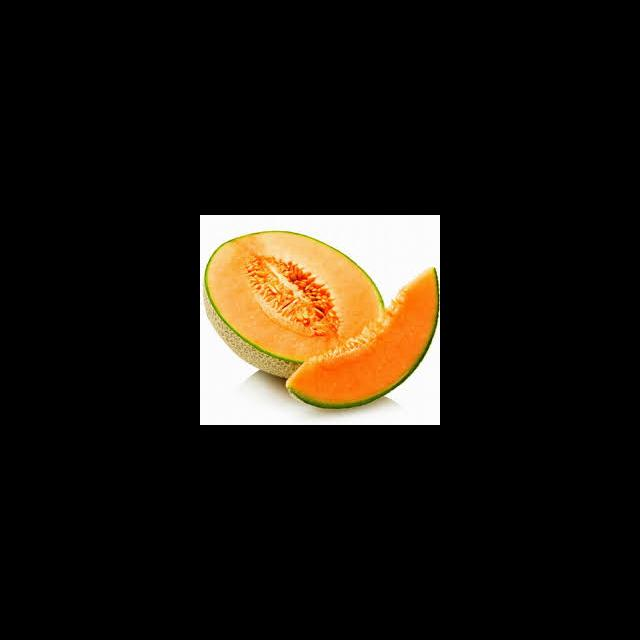Hami Melon: (203, 230, 385, 378), (285, 266, 440, 410)
